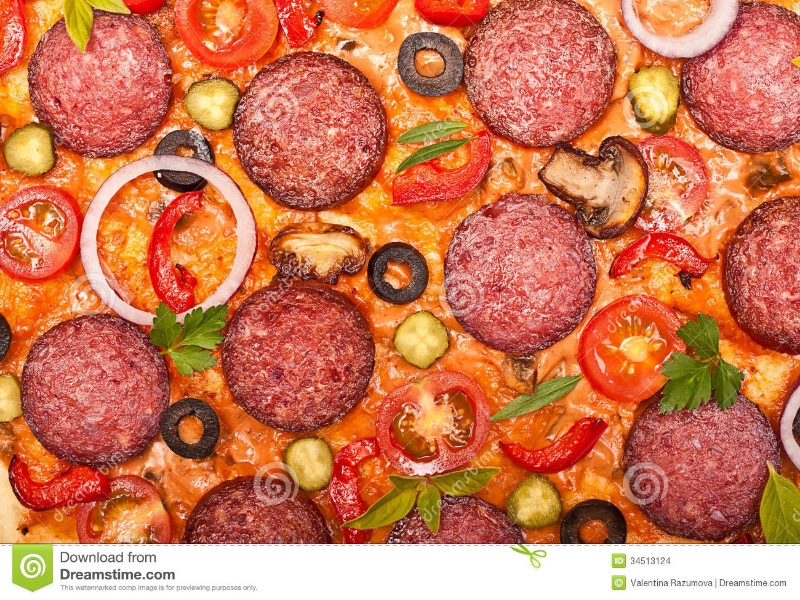olive noir: (393, 34, 466, 94), (366, 241, 436, 301), (162, 403, 224, 460), (564, 496, 633, 547)
pepperonis: (444, 191, 592, 352), (11, 310, 168, 460), (223, 285, 375, 428), (243, 51, 378, 210), (467, 5, 619, 141), (43, 12, 174, 155)
